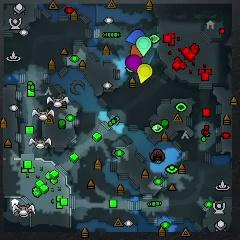p1: (127, 30, 145, 44)
p2: (136, 37, 151, 56)
p3: (126, 55, 141, 72)
p4: (137, 64, 152, 83)
p5: (130, 41, 141, 57)
